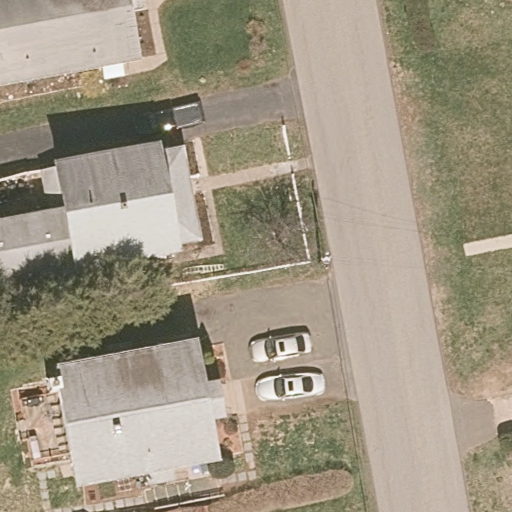DT: (317, 250, 332, 273)
